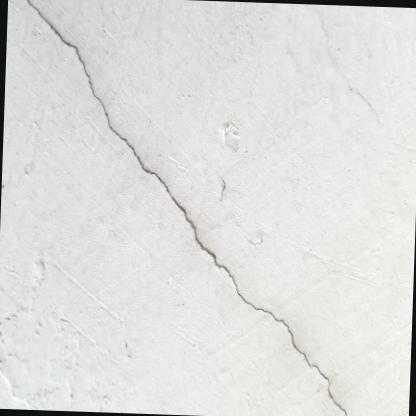crack: (25, 0, 346, 416)
